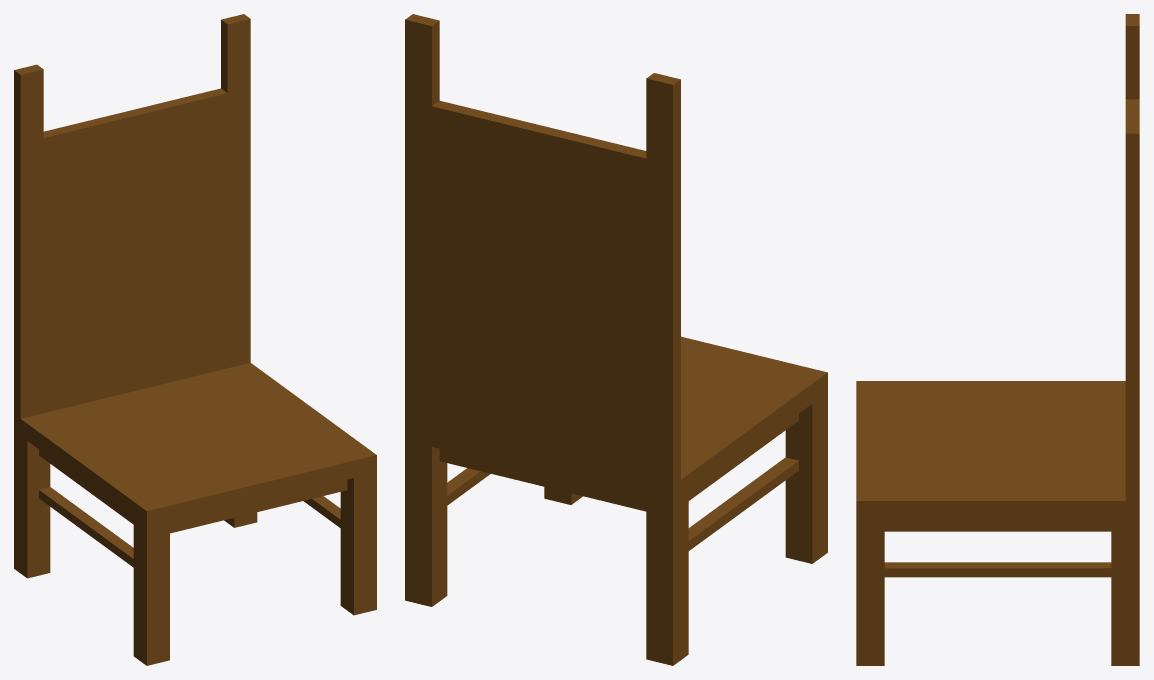
Rendered from Chair.fbx.
The picture shows the model from 3 angles, left to right: view 1: azimuth 30°, elevation 25°; view 2: azimuth 150°, elevation 25°; view 3: azimuth 270°, elevation 25°; orthographic projection. The views are drawn at different scales.
Parts seen in each view (by area): view 1: Chair; view 2: Chair; view 3: Chair.
Part boxes in pixels (bbox=[...]): Chair: bbox=[14, 14, 376, 665]; Chair: bbox=[405, 14, 827, 665]; Chair: bbox=[856, 14, 1139, 665].
Bounding box in the file's own units: 70 × 145 × 70.
